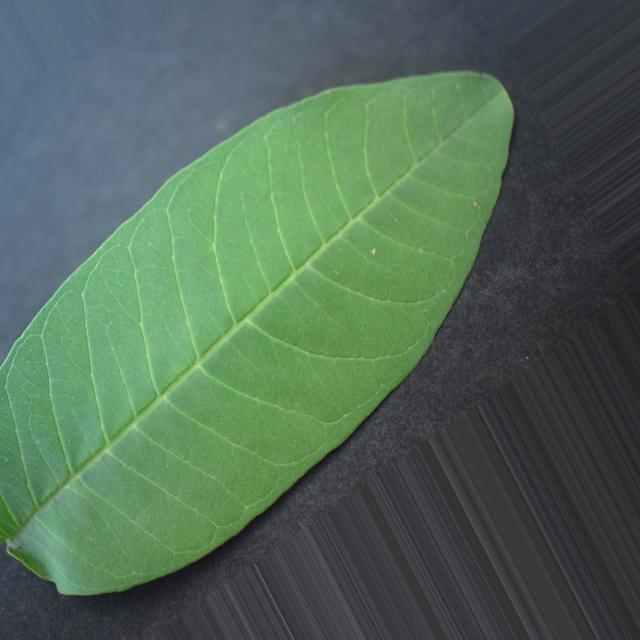Healthy: (0, 71, 514, 594)
